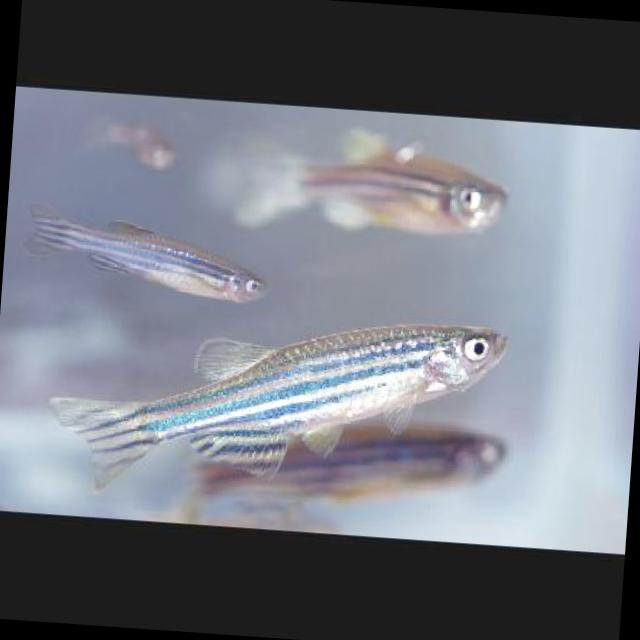ZebraFish: (35, 286, 510, 522), (19, 200, 270, 301)
